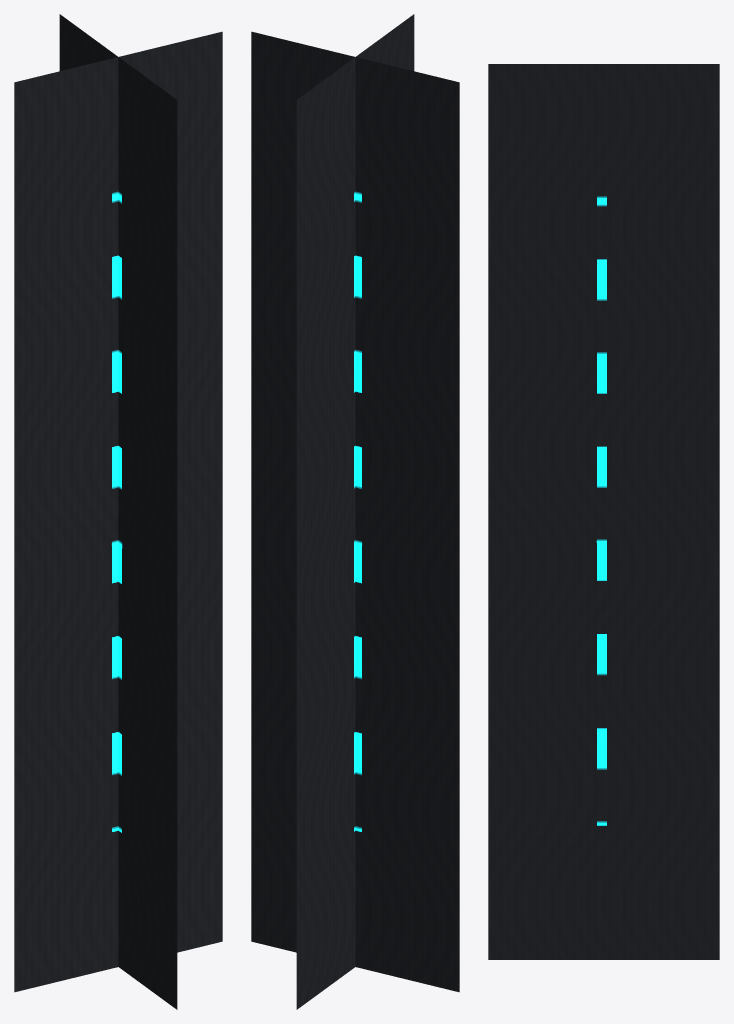
File: aion2_dark_fantasy_sword_Impostor.glb
3 views of the same model, side by side, from view 1: azimuth 30°, elevation 25°; view 2: azimuth 150°, elevation 25°; view 3: azimuth 270°, elevation 25° (orthographic).
Parts seen in each view (by area): view 1: aion2_dark_fantasy_sword_Impostor; view 2: aion2_dark_fantasy_sword_Impostor; view 3: aion2_dark_fantasy_sword_Impostor.
Boxes of the visible parts, box(x1,y1,x2,y2) form: aion2_dark_fantasy_sword_Impostor: box(14, 14, 222, 1009); aion2_dark_fantasy_sword_Impostor: box(251, 14, 459, 1009); aion2_dark_fantasy_sword_Impostor: box(488, 64, 719, 959).
Bounding box in the file's own units: 0.41 × 1.71 × 0.4.
1 material, 1 textured.
